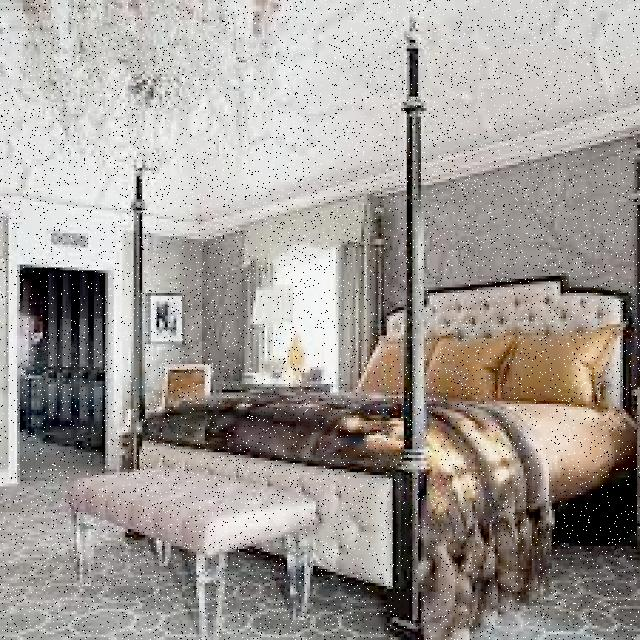bed: (143, 321, 628, 468)
